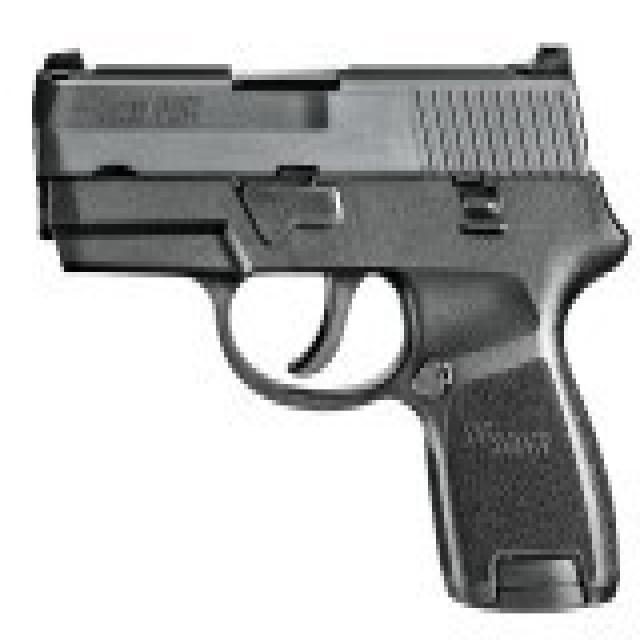Gun: (25, 30, 627, 598)
